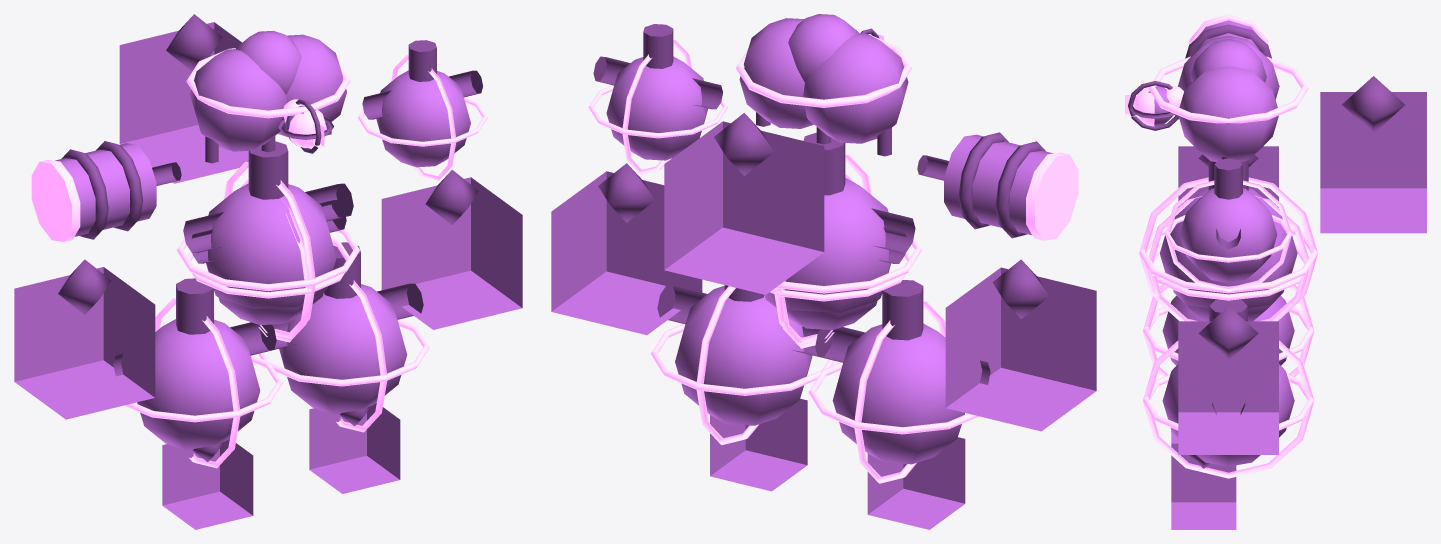
The model's file is golem_150.glb.
3 renders of one model, left to right at view 1: azimuth 30°, elevation 25°; view 2: azimuth 150°, elevation 25°; view 3: azimuth 270°, elevation 25°, orthographic. The views are drawn at different scales.
Parts seen in each view (by area): view 1: Body, Detail, Glow; view 2: Body, Detail, Glow; view 3: Body, Glow, Detail.
Part boxes in pixels (bbox=[...]): Body: bbox=[14, 22, 522, 529]; Detail: bbox=[58, 14, 482, 462]; Glow: bbox=[31, 48, 487, 468]; Body: bbox=[551, 14, 1096, 529]; Detail: bbox=[593, 24, 1049, 384]; Glow: bbox=[588, 32, 1078, 483]; Body: bbox=[1148, 20, 1426, 529]; Glow: bbox=[1125, 14, 1318, 478]; Detail: bbox=[1128, 24, 1405, 468].
Bounding box in the file's own units: 1.43 × 1.34 × 0.8379.
